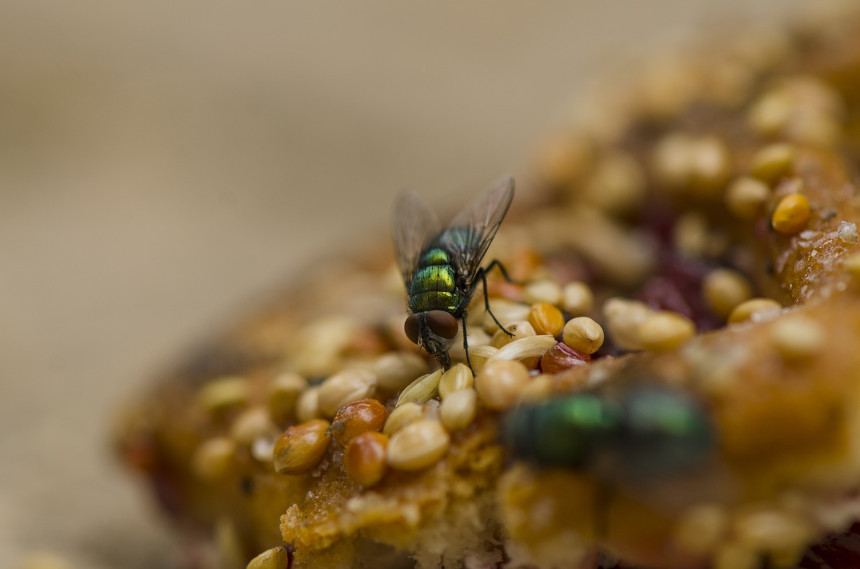house fly: (377, 181, 524, 394)
